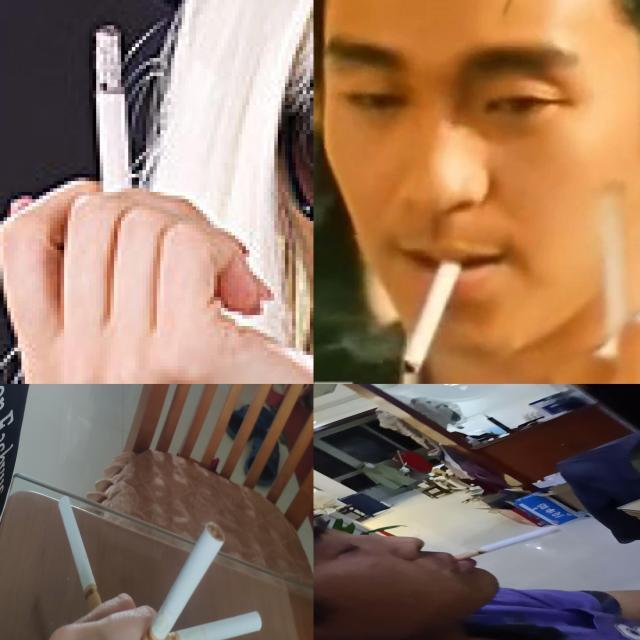smoking: (128, 519, 226, 640), (403, 248, 472, 374), (95, 24, 133, 215), (58, 493, 110, 632), (453, 526, 561, 562), (146, 610, 264, 640)
